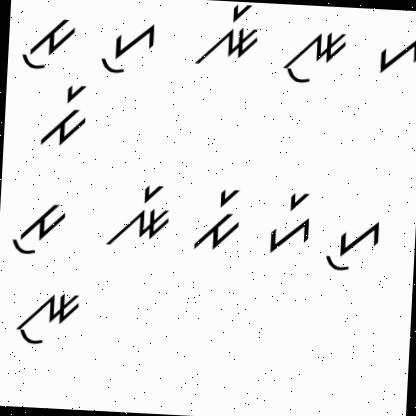ha: (373, 28, 416, 79)
har: (257, 186, 316, 256)
haw: (320, 214, 383, 276), (97, 16, 158, 77)
mbar: (35, 80, 94, 152), (186, 185, 242, 255)
mbaw: (2, 198, 70, 262), (15, 8, 80, 72)
ndar: (99, 176, 175, 249), (188, 1, 264, 72)
ndaw: (8, 287, 86, 352), (276, 25, 351, 91)
